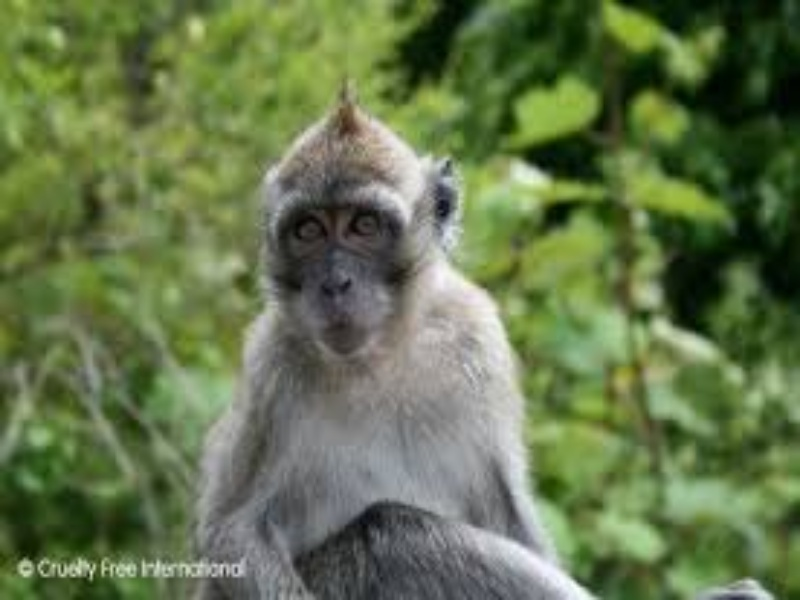monkey: (188, 78, 592, 596)
